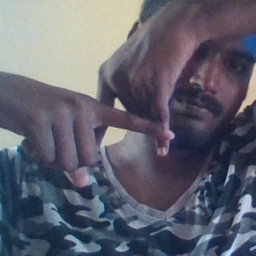H: (78, 55, 187, 164)
